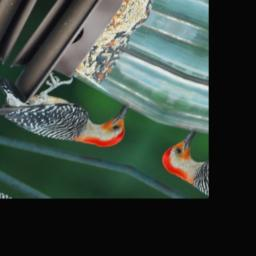Woodpecker: (0, 56, 144, 164)
